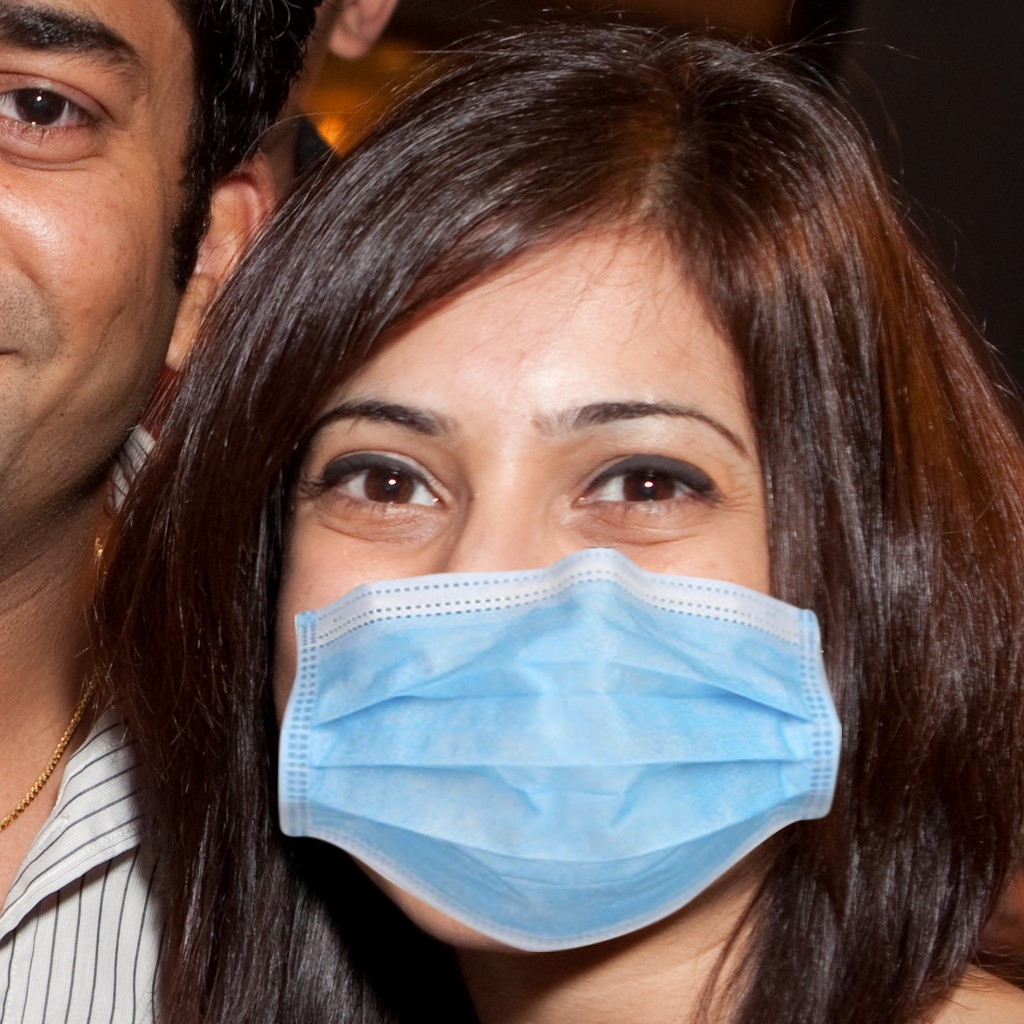con_mascara: (260, 160, 791, 964)
